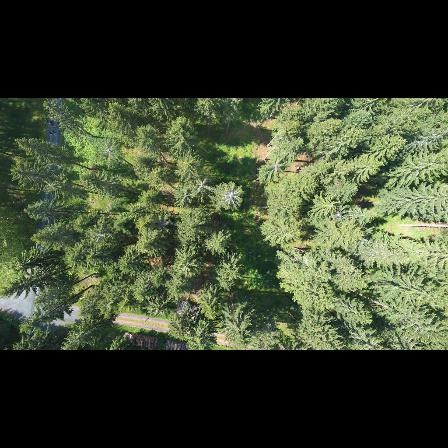Sick: (95, 138, 126, 165), (217, 181, 242, 211), (87, 223, 112, 250), (328, 202, 350, 227), (190, 172, 214, 194), (41, 175, 63, 199), (264, 152, 285, 177)
